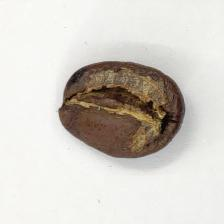NG: (62, 62, 171, 152)
